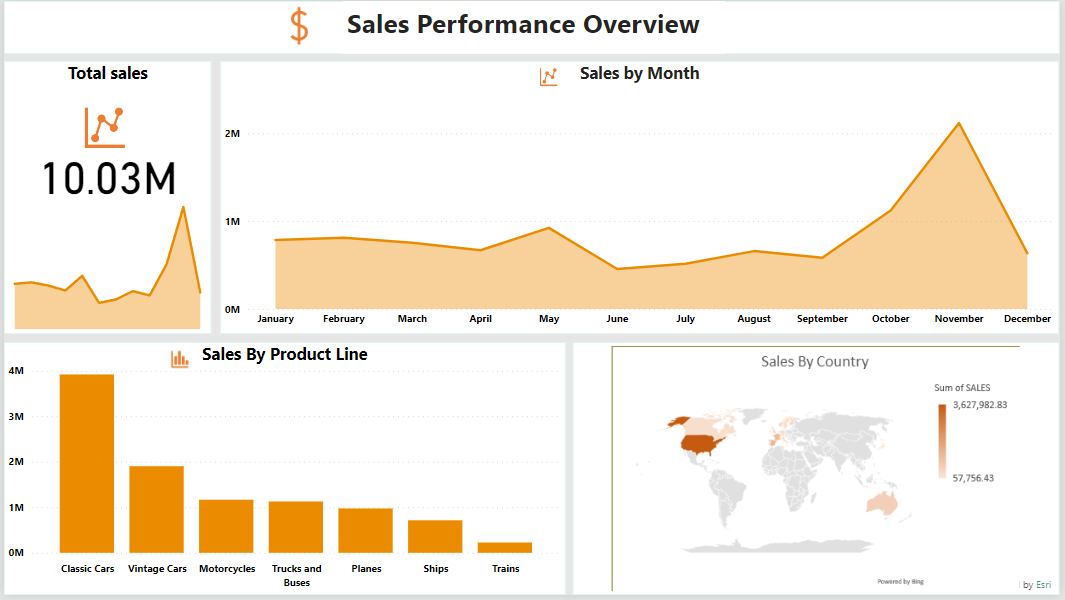

The dashboard page shown, as its layout file describes it:
{"tool":"powerbi","page":{"name":"Sales Performance Overview","canvas":[1280,720],"ordinal":0},"visuals":[{"type":"shape","box":[262.8,73.1,1016.7,330.8],"z":0},{"type":"areaChart","title":"Sales by Month","fields":{"Category":["sales_data_sample.ORDERDATE.Variation.Date Hierarchy.Year","sales_data_sample.ORDERDATE.Variation.Date Hierarchy.Quarter","sales_data_sample.ORDERDATE.Variation.Date Hierarchy.Month","sales_data_sample.ORDERDATE.Variation.Date Hierarchy.Day"],"Y":["Sum(sales_data_sample.SALES)"]},"box":[262.8,73.1,1016.7,330.8],"z":1000},{"type":"shape","box":[0,414.1,680.8,306.4],"z":2000},{"type":"columnChart","title":"Sales By  Product Line","fields":{"Category":["sales_data_sample.PRODUCTLINE"],"Y":["Sum(sales_data_sample.SALES)"]},"box":[0,414.1,680.8,306.4],"z":3000},{"type":"shape","box":[0,73.1,251.3,330.8],"z":4000},{"type":"areaChart","fields":{"Category":["sales_data_sample.ORDERDATE.Variation.Date Hierarchy.Year","sales_data_sample.ORDERDATE.Variation.Date Hierarchy.Quarter","sales_data_sample.ORDERDATE.Variation.Date Hierarchy.Month","sales_data_sample.ORDERDATE.Variation.Date Hierarchy.Day"],"Y":["Sum(sales_data_sample.SALES)"]},"box":[0,209,251.3,194.9],"z":5000},{"type":"card","title":"Total sales","fields":{"Values":["Sum(sales_data_sample.SALES)"]},"box":[0,73.1,251.3,246.2],"z":6000},{"type":"image","box":[83.3,112.8,76.9,83.3],"z":7000},{"type":"shape","box":[689.7,414.1,589.7,306.4],"z":8000},{"type":"shape","box":[0,0,1279.5,64.1],"z":9000},{"type":"textbox","box":[410.3,0,464.1,64.1],"z":10000},{"type":"esriVisual","title":"Sales By country","fields":{"Location":["sales_data_sample.COUNTRY"],"Size":["Sum(sales_data_sample.SALES)"],"Color":["Sum(sales_data_sample.SALES)"]},"box":[689.7,414.1,589.7,306.4],"z":11000},{"type":"image","box":[193.6,414.1,38.5,42.3],"z":12000},{"type":"image","box":[637.2,73.1,43.6,39.7],"z":13000},{"type":"image","box":[321.8,0,73.1,60.3],"z":14000},{"type":"image","box":[690,413.8,588.8,306.2],"z":14001}]}

Visuals, with their boxes in screenshot pixels (x1, y1, x2, y2), scaled from the page's 1280x720 canvas onto the 1065x600 screenshot:
shape: (left=219, top=61, right=1064, bottom=337)
"Sales by Month" areaChart: (left=219, top=61, right=1064, bottom=337)
shape: (left=0, top=345, right=566, bottom=599)
"Sales By  Product Line" columnChart: (left=0, top=345, right=566, bottom=599)
shape: (left=0, top=61, right=209, bottom=337)
areaChart - sales_data_sample.ORDERDATE.Variation.Date Hierarchy.Year x sales_data_sample.ORDERDATE.Variation.Date Hierarchy.Quarter: (left=0, top=174, right=209, bottom=337)
"Total sales" card: (left=0, top=61, right=209, bottom=266)
image: (left=69, top=94, right=133, bottom=163)
shape: (left=574, top=345, right=1064, bottom=599)
shape: (left=0, top=0, right=1064, bottom=53)
textbox: (left=341, top=0, right=728, bottom=53)
"Sales By country" esriVisual: (left=574, top=345, right=1064, bottom=599)
image: (left=161, top=345, right=193, bottom=380)
image: (left=530, top=61, right=566, bottom=94)
image: (left=268, top=0, right=329, bottom=50)
image: (left=574, top=345, right=1064, bottom=599)
